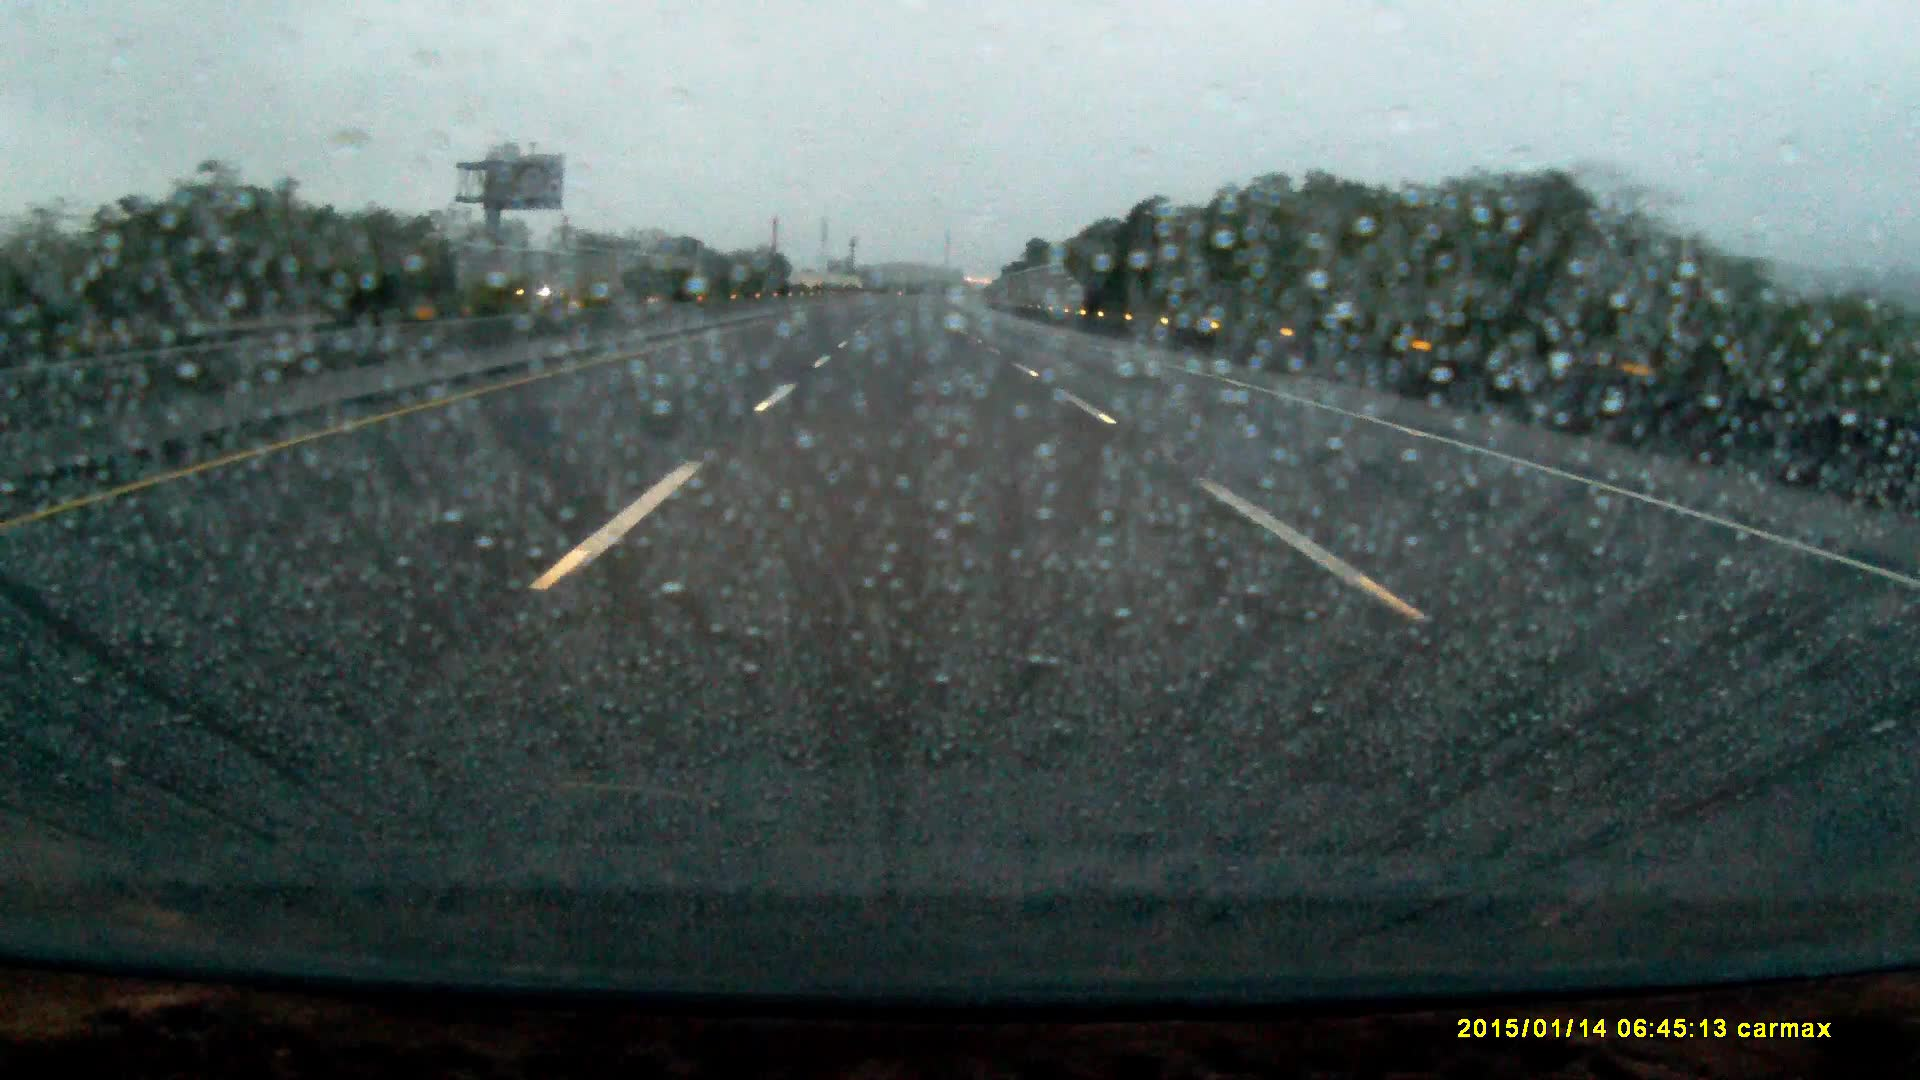vehicle: (524, 269, 603, 309)
